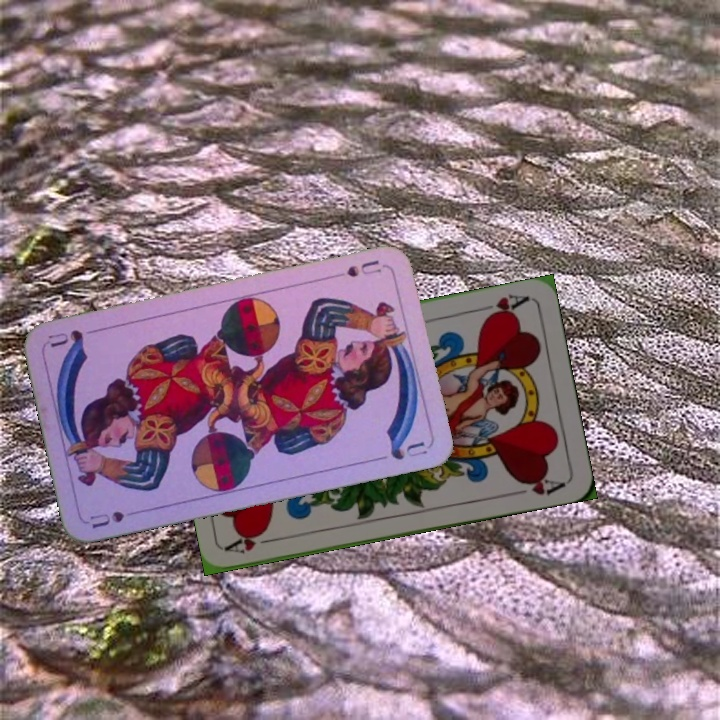HA: (473, 289, 531, 322), (224, 527, 283, 556)
SU: (85, 506, 145, 531), (343, 256, 384, 280)
